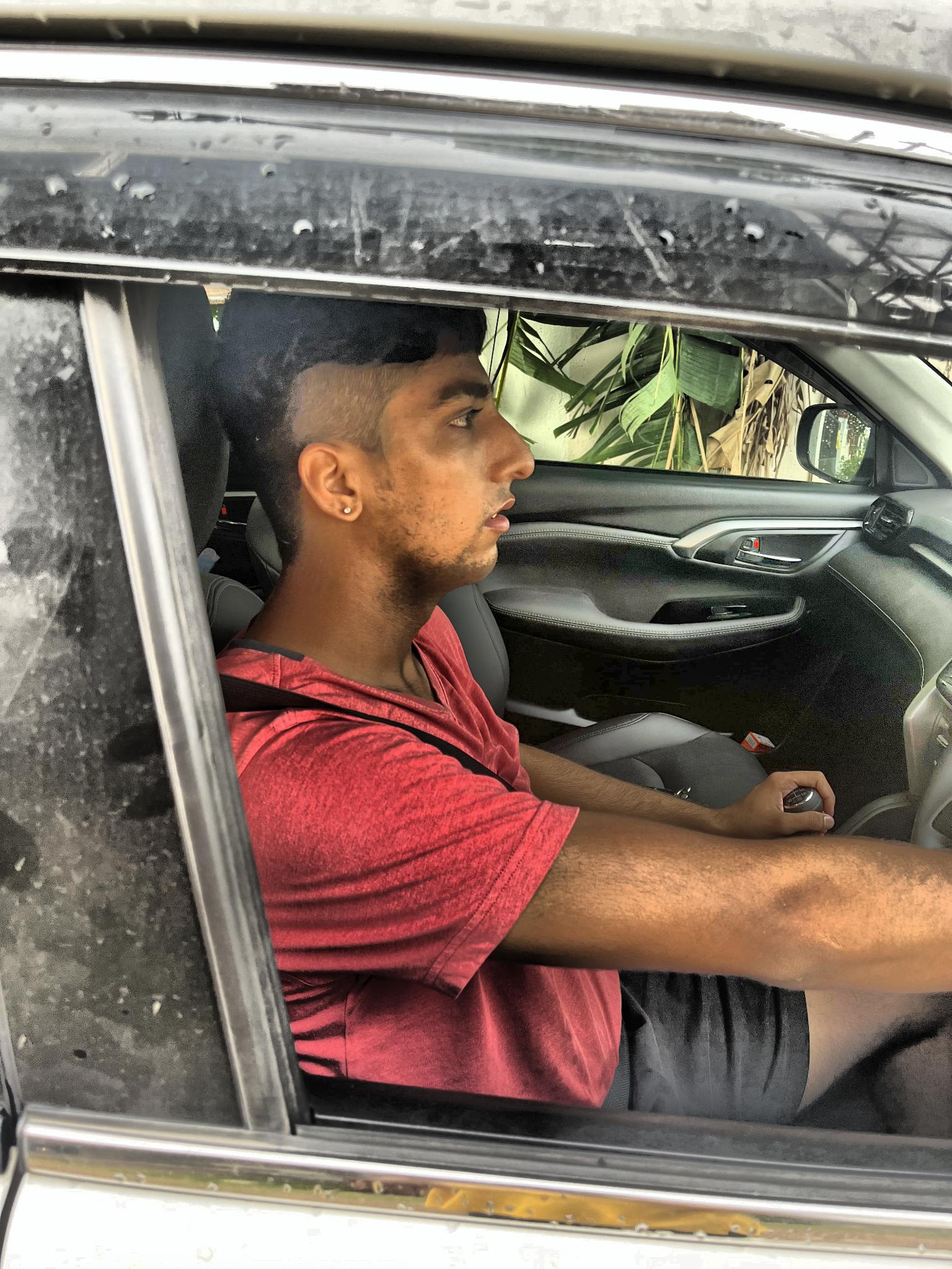seatbelt: (220, 632, 541, 783)
